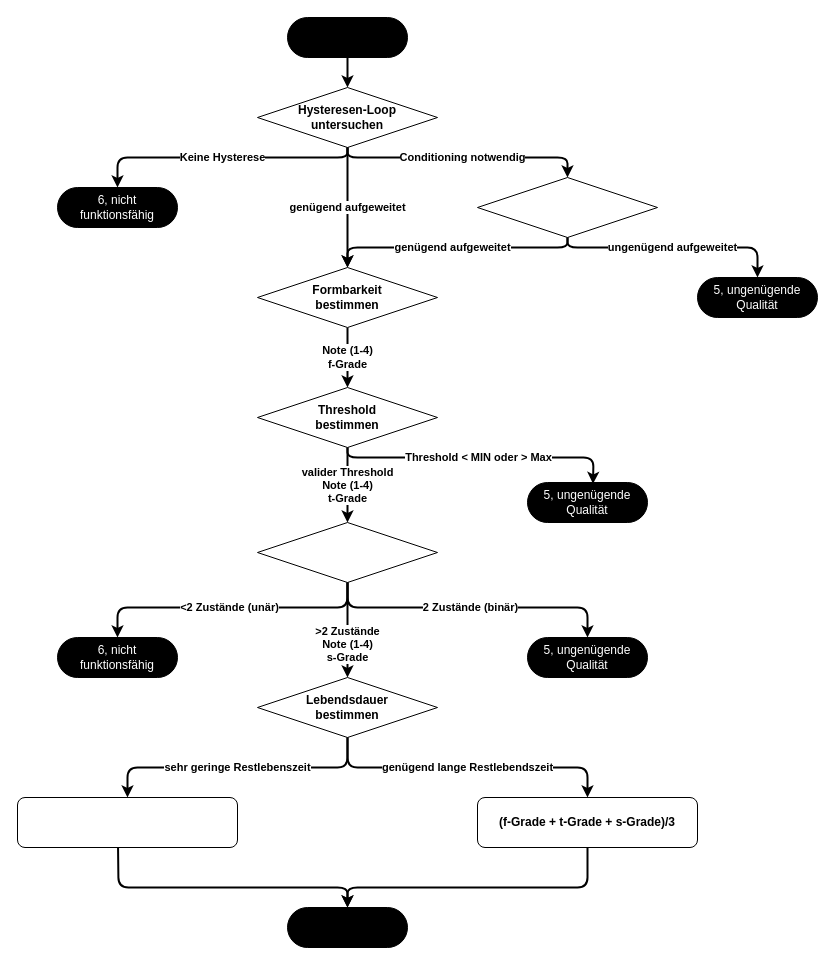
Image size: 835x965. Some labels were removed from this diagram. Each missing label, with the box of its shape:
(f-Grade + t-Grade + s-Grade)/3 - 1: (16, 796, 238, 848)
Conditioning durchführen: (476, 176, 658, 238)
Ende: (286, 906, 408, 948)
Speichergröße bestimmen: (256, 522, 438, 582)
Start: (286, 16, 408, 58)
